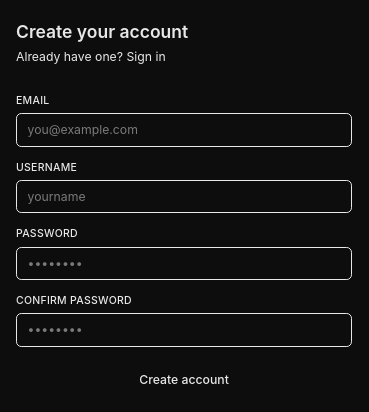
it: RegisterPage — duplicate email error › displays a field-level error beneath the email input when the API returns 409
The width and height of the screenshot is (369, 412).
Step 1. Type "dup@example.com" into the field labelled "Email" → (184, 130), box [16, 113, 352, 146]
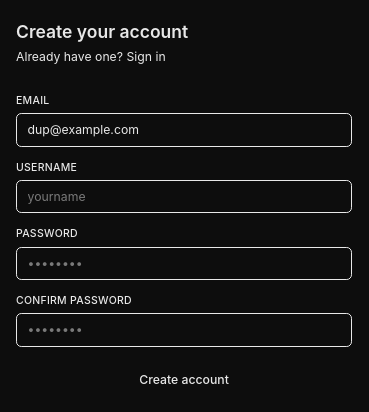
Step 2. Type "testuser" into the field labelled "Username" → (184, 197), box [16, 180, 352, 213]
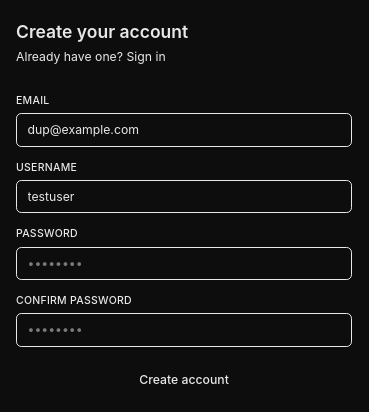
Step 3. Type "SecurePass123!" into the password field labelled "Password" → (184, 263), box [16, 246, 352, 280]
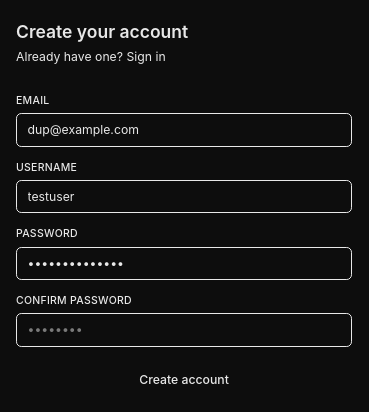
Step 4. Type "SecurePass123!" into the password field labelled "Confirm password" → (184, 330), box [16, 313, 352, 347]
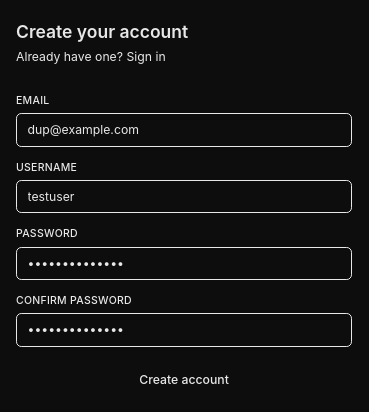
Step 5. Click the button "Create account" → (184, 380), box [16, 364, 352, 396]
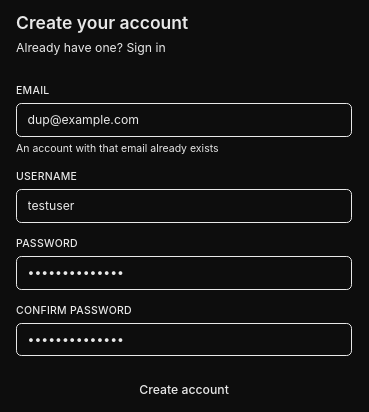
Result: the text "An account with that email already exists" is shown at [16, 142, 219, 155]
